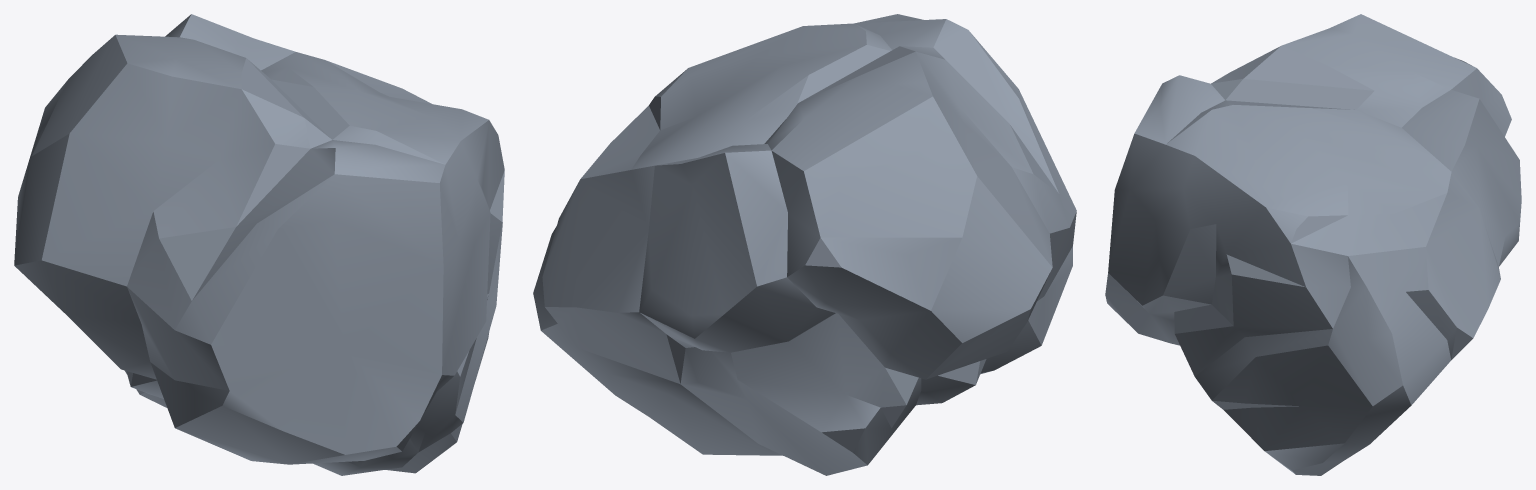
The model's file is Rocks_big_02_LOD1.fbx.
3 renders of one model, left to right at view 1: azimuth 30°, elevation 25°; view 2: azimuth 150°, elevation 25°; view 3: azimuth 270°, elevation 25°, orthographic. The views are drawn at different scales.
Parts seen in each view (by area): view 1: Rocks_big_03; view 2: Rocks_big_03; view 3: Rocks_big_03.
Part boxes in pixels (x1,y1,x2,y2): Rocks_big_03: (14,14,504,475); Rocks_big_03: (533,14,1076,475); Rocks_big_03: (1105,14,1521,475).
Bounding box in the file's own units: 340 × 296 × 309.
